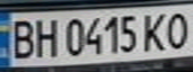0: (63, 15, 84, 56)
1: (103, 12, 121, 54)
4: (84, 14, 106, 56)
5: (118, 11, 142, 54)
B: (6, 16, 39, 61)
H: (30, 15, 60, 60)
K: (139, 9, 172, 53)
O: (160, 8, 193, 51)
